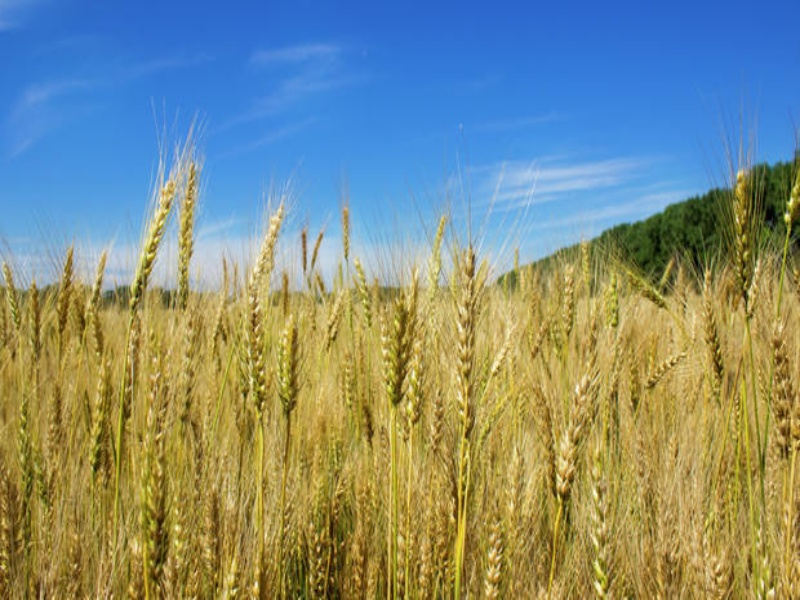wheat: (524, 230, 680, 559), (4, 327, 179, 587), (225, 172, 373, 457), (691, 94, 797, 484), (383, 185, 495, 487), (117, 94, 219, 398), (1, 218, 116, 342)
